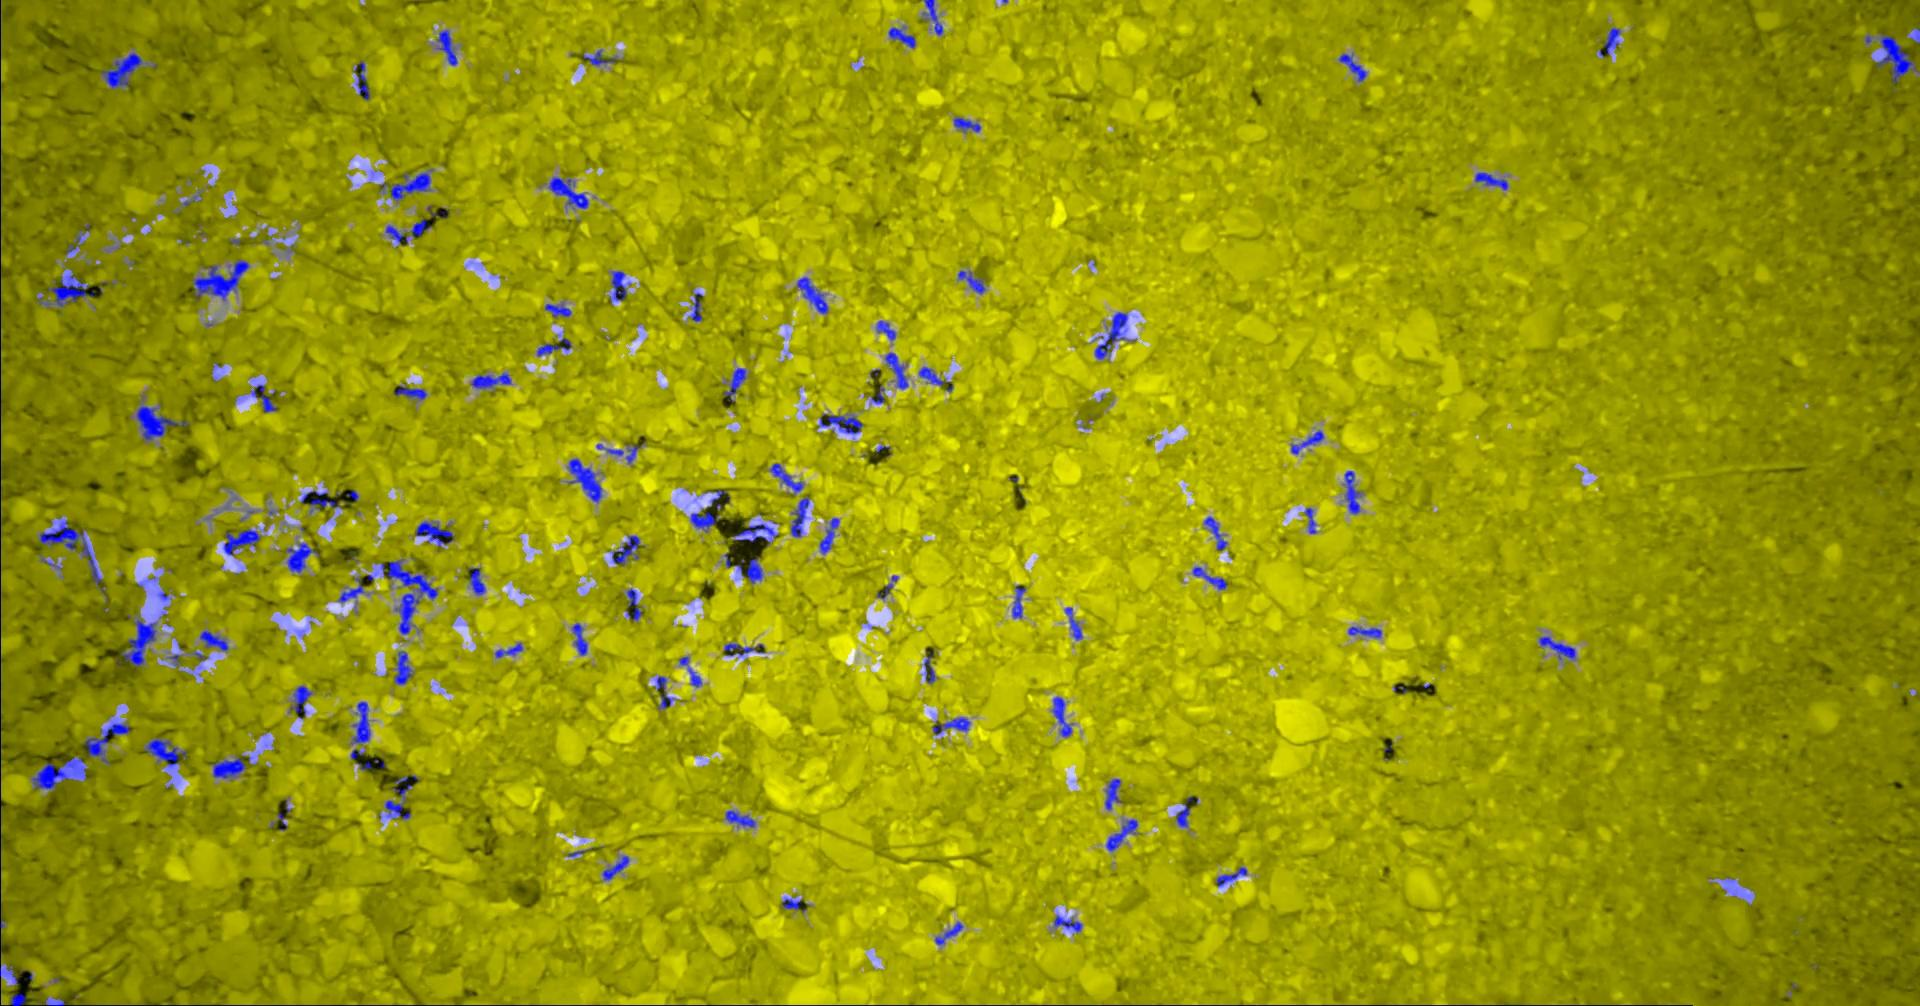ant: (39, 521, 105, 594), (192, 259, 249, 300), (1876, 33, 1919, 83), (116, 619, 156, 666), (84, 723, 130, 763), (30, 756, 86, 788), (46, 271, 95, 306), (136, 406, 188, 439), (1095, 311, 1128, 359), (568, 459, 601, 502), (102, 52, 142, 86), (549, 177, 588, 208), (143, 737, 185, 766), (389, 171, 430, 199), (724, 553, 762, 583), (796, 276, 827, 312), (284, 542, 319, 572), (415, 521, 453, 546), (1105, 819, 1137, 850), (733, 523, 777, 545), (770, 464, 803, 492), (818, 413, 862, 433), (223, 528, 259, 554), (611, 535, 639, 564), (884, 352, 907, 387), (1539, 636, 1575, 659), (1290, 429, 1323, 453), (212, 754, 245, 779), (723, 367, 745, 401), (1192, 567, 1227, 589), (1338, 53, 1366, 81), (436, 29, 457, 65), (1204, 516, 1227, 549), (300, 490, 339, 509), (1051, 696, 1070, 735), (678, 655, 701, 687), (352, 701, 370, 742), (290, 685, 311, 718), (392, 775, 419, 801), (790, 497, 808, 536), (922, 0, 942, 34), (1175, 796, 1197, 827), (536, 337, 571, 356), (819, 517, 838, 553), (251, 384, 276, 412), (1343, 470, 1359, 513), (932, 716, 969, 734), (338, 577, 363, 602), (602, 855, 629, 879), (957, 271, 985, 293), (935, 921, 963, 944), (1599, 27, 1620, 56), (470, 372, 510, 387), (654, 676, 673, 708), (690, 511, 719, 531), (1217, 866, 1246, 887), (1474, 171, 1507, 189), (1064, 607, 1082, 640), (394, 650, 411, 683), (354, 61, 370, 99), (918, 366, 949, 385), (888, 27, 916, 47), (199, 630, 227, 650), (582, 50, 617, 65), (610, 271, 626, 302), (1103, 779, 1120, 809), (725, 810, 756, 827), (1053, 915, 1081, 932), (626, 588, 641, 620), (383, 800, 410, 818), (385, 225, 408, 245), (876, 575, 897, 598), (467, 567, 484, 594), (571, 622, 585, 655), (394, 385, 425, 399), (1011, 586, 1025, 617), (952, 117, 980, 132), (723, 643, 756, 655), (495, 641, 522, 657), (781, 897, 808, 912), (410, 218, 430, 238), (690, 292, 702, 321), (876, 320, 895, 339), (1347, 626, 1382, 636), (543, 304, 570, 316), (710, 489, 726, 509), (923, 653, 935, 682), (66, 234, 83, 253), (1304, 507, 1316, 533), (625, 445, 637, 464), (871, 385, 884, 403), (9, 992, 25, 1005)
